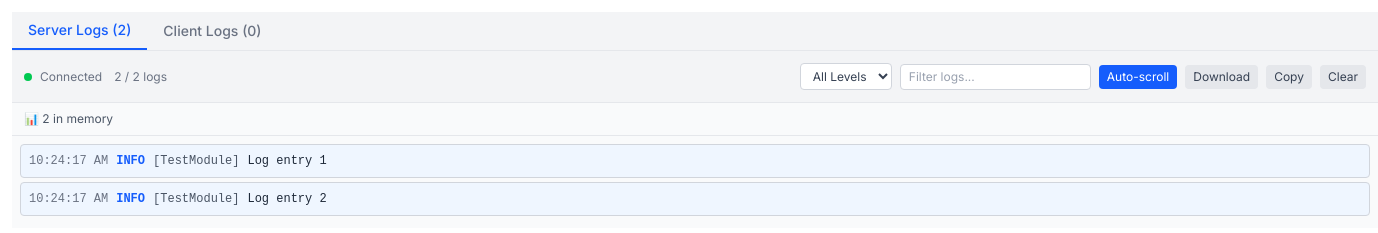
Test: LogViewer Regression Tests › Actions › clear button empties logs array
This screenshot has width=1378, height=233.
Expected: the text "Log entry 1" is shown, [248,154,327,168]
Expected: the text "Log entry 2" is shown, [248,192,327,206]
Click clear
Click the button "Clear". click: [1343, 76]
box: [1320,64,1366,88]
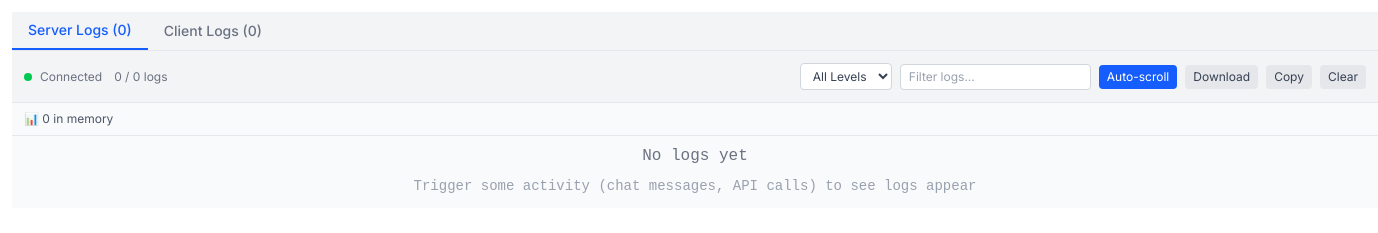
Expected: the text "Log entry 1" is gone
Expected: the text "Log entry 2" is gone
Expected: the text "No logs yet" is shown, [642,147,748,165]
